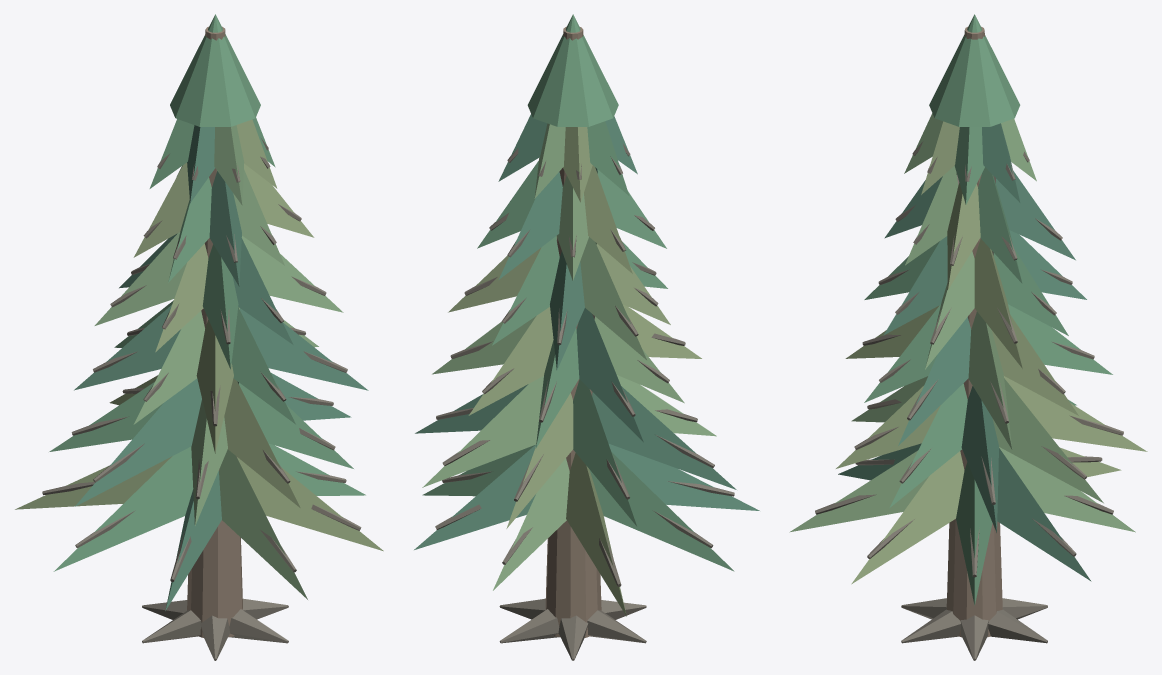
File: pine_high.glb
3 views of the same model, side by side, from view 1: azimuth 30°, elevation 25°; view 2: azimuth 150°, elevation 25°; view 3: azimuth 270°, elevation 25° (orthographic).
Visible parts, largest first — view 1: pine_high_needle, pine_high_needle_deep, pine_high_needle_olive, pine_high_needle_light, pine_high_bark_dark, pine_high_bark; view 2: pine_high_needle, pine_high_needle_deep, pine_high_needle_light, pine_high_needle_olive, pine_high_bark_dark, pine_high_bark; view 3: pine_high_needle, pine_high_needle_olive, pine_high_needle_light, pine_high_needle_deep, pine_high_bark_dark, pine_high_bark.
Part boxes in pixels (bbox=[...]): pine_high_needle: bbox=[49, 14, 365, 571]; pine_high_needle_deep: bbox=[74, 125, 368, 610]; pine_high_needle_olive: bbox=[15, 119, 383, 551]; pine_high_needle_light: bbox=[94, 125, 343, 599]; pine_high_bark_dark: bbox=[42, 138, 361, 660]; pine_high_bark: bbox=[187, 26, 242, 637]; pine_high_needle: bbox=[422, 14, 734, 571]; pine_high_needle_deep: bbox=[414, 114, 759, 549]; pine_high_needle_light: bbox=[422, 123, 716, 590]; pine_high_needle_olive: bbox=[448, 127, 701, 616]; pine_high_bark_dark: bbox=[435, 144, 734, 660]; pine_high_bark: bbox=[545, 26, 601, 637]; pine_high_needle: bbox=[864, 14, 1112, 605]; pine_high_needle_olive: bbox=[836, 121, 1147, 584]; pine_high_needle_light: bbox=[789, 113, 1135, 532]; pine_high_needle_deep: bbox=[838, 123, 1091, 581]; pine_high_bark_dark: bbox=[815, 141, 1123, 660]; pine_high_bark: bbox=[946, 26, 1002, 637].
Size of the model in its own units: 2.5 by 4.73 by 2.48.
